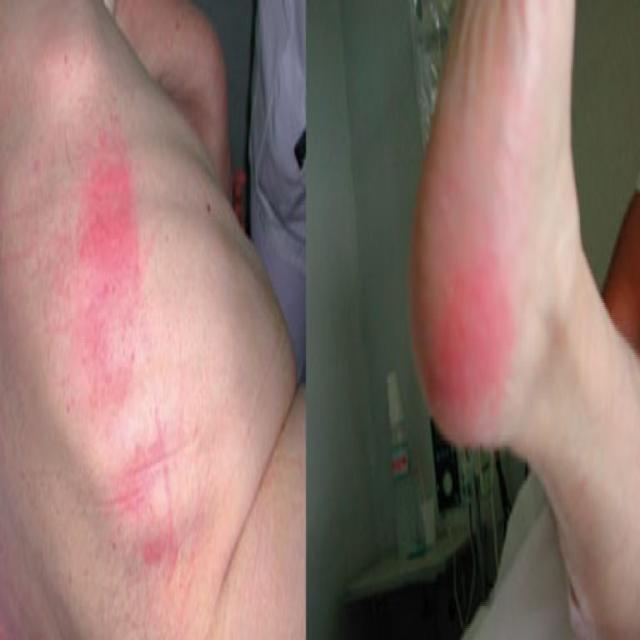stage-1: (80, 140, 140, 414), (431, 244, 516, 430), (123, 438, 180, 568)
